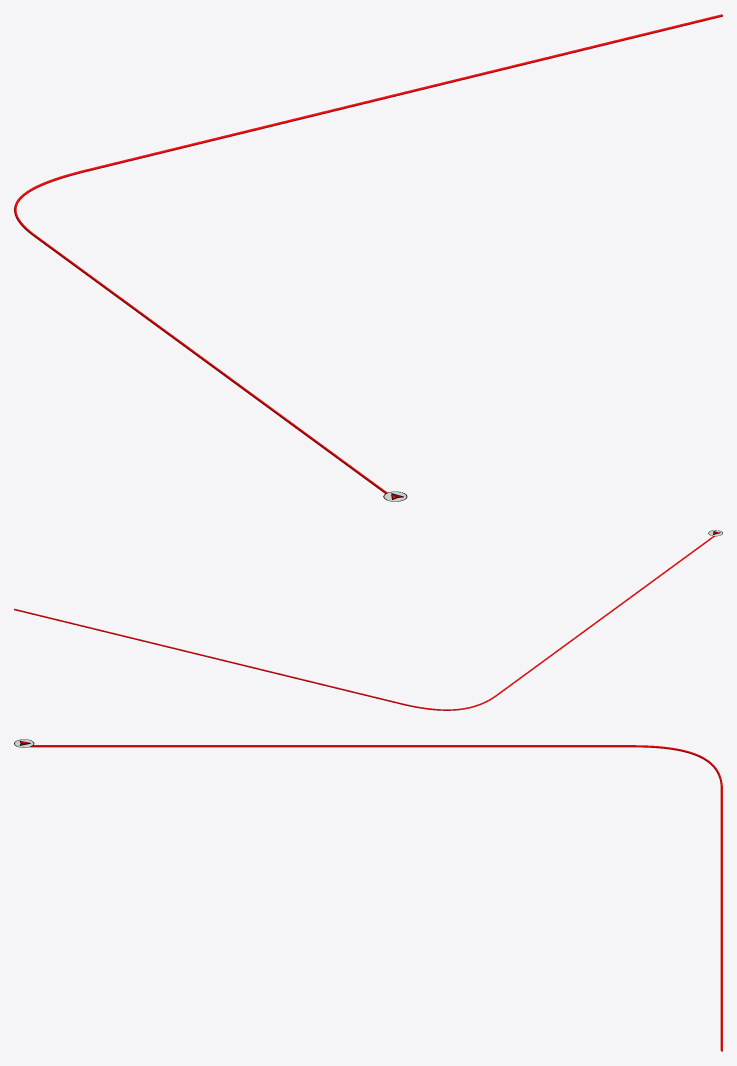
The model's file is route_4ed025c8-f45d-4564-8c55-a559bae0d9ca_en_single.glb.
3 renders of one model, top to bottom at view 1: azimuth 30°, elevation 25°; view 2: azimuth 150°, elevation 25°; view 3: azimuth 270°, elevation 25°, orthographic. The views are drawn at different scales.
Parts seen in each view (by area): view 1: Station 2a; view 2: Station 2a; view 3: Station 2a.
Boxes of the visible parts, <box> form: Station 2a: <box>14,14,722,493</box>; Station 2a: <box>14,536,714,710</box>; Station 2a: <box>30,745,722,1051</box>.
Size of the model in its own units: 14.68 by 0.091 by 14.25.
